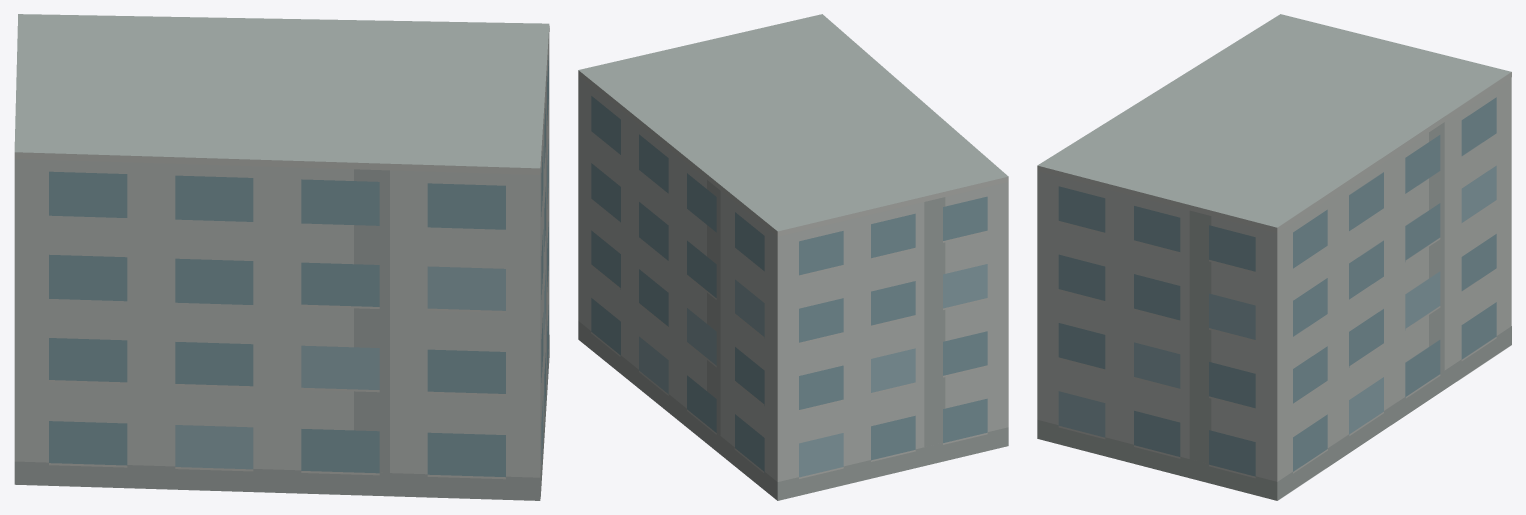
The model's file is survey-upis-32757359.glb.
3 views of the same model, side by side, from view 1: azimuth 30°, elevation 25°; view 2: azimuth 150°, elevation 25°; view 3: azimuth 270°, elevation 25° (orthographic). The views are drawn at different scales.
Parts seen in each view (by area): view 1: survey-upis-32757359.tmp; view 2: survey-upis-32757359.tmp; view 3: survey-upis-32757359.tmp.
Boxes of the visible parts, x1,y1,x2,y2 form: survey-upis-32757359.tmp: [14, 14, 549, 500]; survey-upis-32757359.tmp: [578, 14, 1008, 500]; survey-upis-32757359.tmp: [1037, 14, 1511, 500].
Size of the model in its own units: 20.47 by 12.2 by 19.21.
